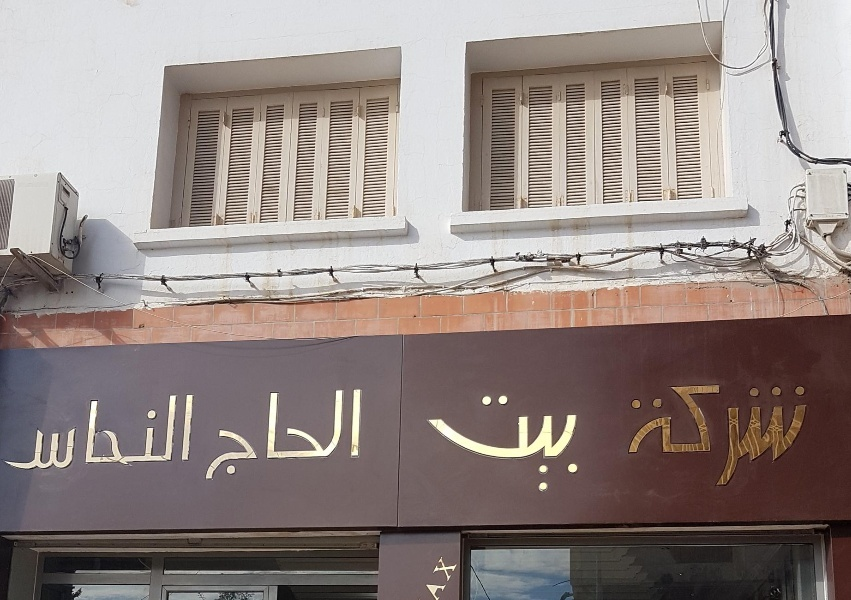text: (433, 391, 448, 495), (449, 391, 464, 495), (465, 391, 480, 495), (481, 391, 496, 495), (497, 391, 512, 495), (513, 391, 528, 495), (529, 391, 544, 495), (545, 391, 560, 495), (561, 391, 576, 495), (641, 384, 656, 487), (657, 384, 672, 487), (673, 384, 688, 487), (689, 384, 704, 487), (705, 384, 720, 487), (721, 384, 736, 487), (737, 384, 752, 487), (753, 384, 768, 487), (769, 384, 784, 487), (785, 384, 800, 487), (626, 384, 640, 487), (225, 388, 240, 481), (241, 388, 256, 481), (257, 388, 272, 481), (273, 388, 288, 481), (289, 388, 304, 481), (305, 388, 320, 481), (321, 388, 336, 481), (337, 388, 352, 481), (17, 393, 32, 475), (33, 393, 48, 475), (49, 393, 64, 475), (65, 393, 80, 475), (81, 393, 96, 475), (97, 393, 112, 475), (113, 393, 128, 475), (129, 393, 144, 475), (145, 393, 160, 475), (161, 393, 176, 475), (177, 393, 192, 475), (353, 388, 365, 481), (801, 384, 809, 487), (9, 393, 16, 475), (427, 391, 432, 495), (449, 555, 459, 599), (439, 555, 448, 599), (193, 393, 196, 475), (577, 391, 579, 495)
